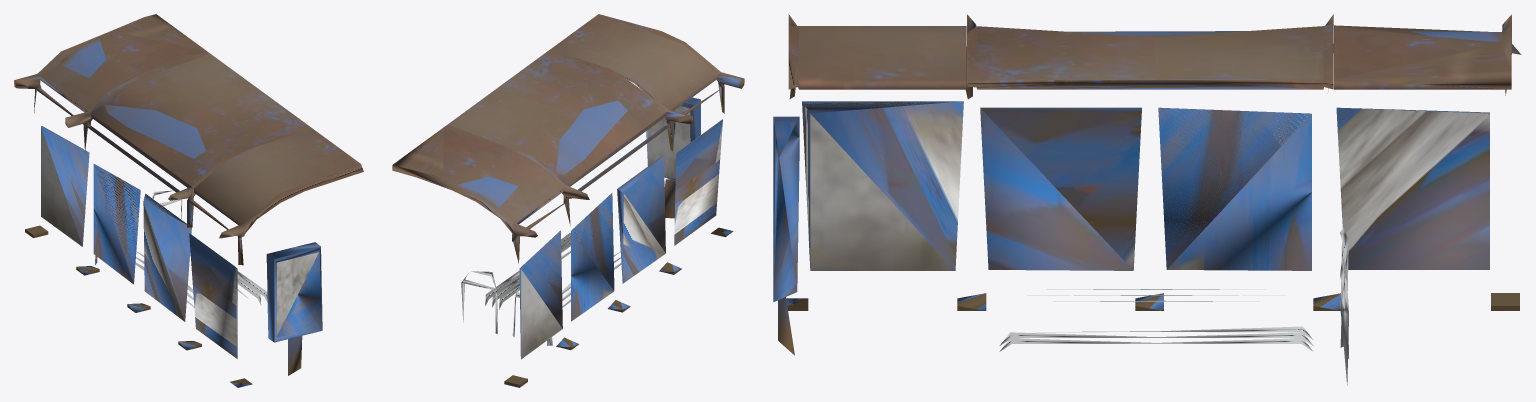
The model's file is tram-xe-buyt.glb.
3 views of the same model, side by side, from view 1: azimuth 30°, elevation 25°; view 2: azimuth 150°, elevation 25°; view 3: azimuth 270°, elevation 25° (orthographic). The views are drawn at different scales.
Parts seen in each view (by area): view 1: Circle.007_Roof_0, Cube.002_Walls_0, Plane.005_Ads_0, Plane.009_Things_0, Cube.006_Seats_0; view 2: Circle.007_Roof_0, Cube.002_Walls_0, Plane.005_Ads_0, Cube.006_Seats_0, Plane.009_Things_0; view 3: Cube.002_Walls_0, Circle.007_Roof_0, Plane.005_Ads_0, Cube.006_Seats_0, Plane.009_Things_0.
Part boxes in pixels (box(x1,y1,x2,y2)): Circle.007_Roof_0: box(14, 14, 363, 265); Cube.002_Walls_0: box(41, 126, 237, 358); Plane.005_Ads_0: box(266, 242, 322, 375); Plane.009_Things_0: box(25, 225, 252, 387); Cube.006_Seats_0: box(95, 190, 267, 307); Circle.007_Roof_0: box(392, 14, 744, 263); Cube.002_Walls_0: box(519, 119, 722, 359); Plane.005_Ads_0: box(646, 97, 700, 218); Cube.006_Seats_0: box(461, 232, 621, 345); Plane.009_Things_0: box(504, 227, 733, 387); Cube.002_Walls_0: box(802, 101, 1489, 270); Circle.007_Roof_0: box(788, 14, 1521, 99); Plane.005_Ads_0: box(773, 116, 799, 355); Cube.006_Seats_0: box(999, 227, 1348, 385); Plane.009_Things_0: box(786, 293, 1519, 310).
Size of the model in its own units: 0.3787 by 0.4796 by 0.9915.
Materials: 5 (4 with a texture image).
